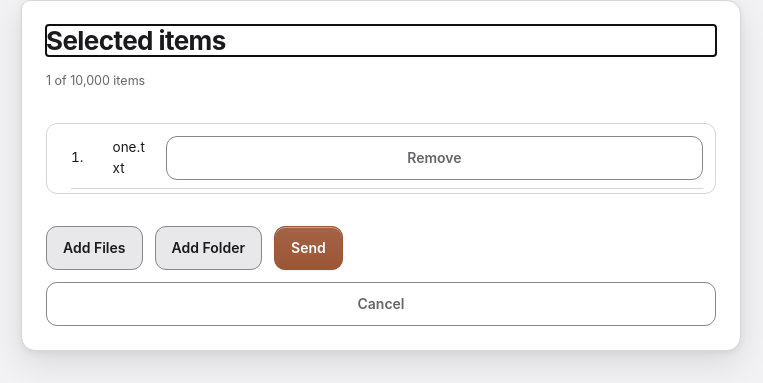
collection draft focus › moves to Add Files when the last row is removed
What coordinates should you click on to do the following:
click the button with aria-label "Remove 1. one.txt"
I would click on:
 (434, 158)
Its box is 166,136 -> 703,180.
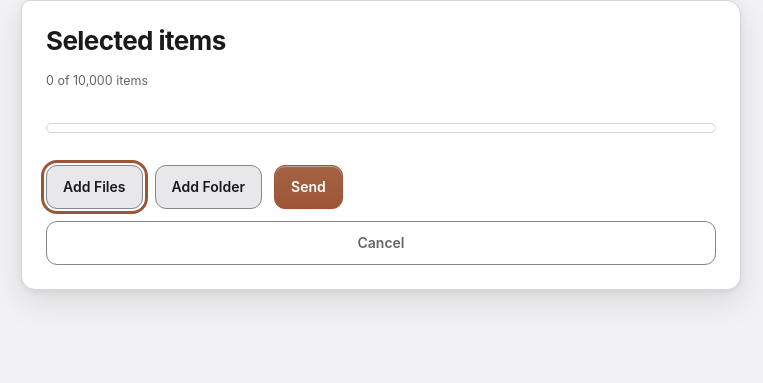
expect the button "Send" is disabled: met, box 274,165 -> 343,209
